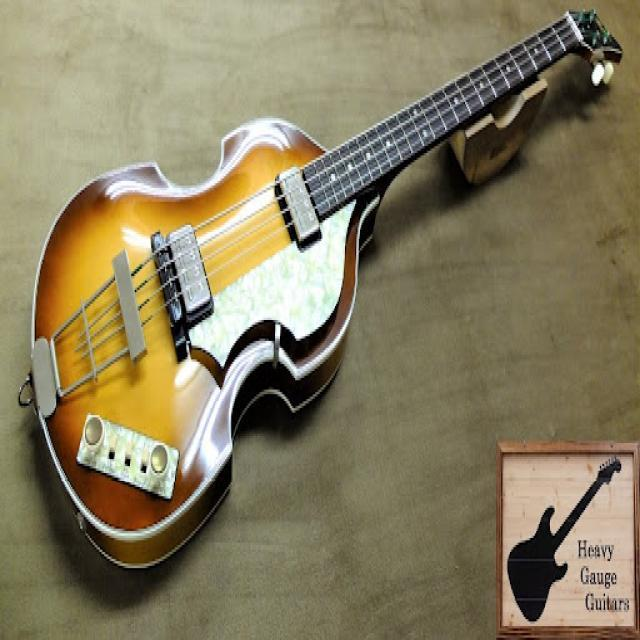bass: (20, 12, 621, 565)
